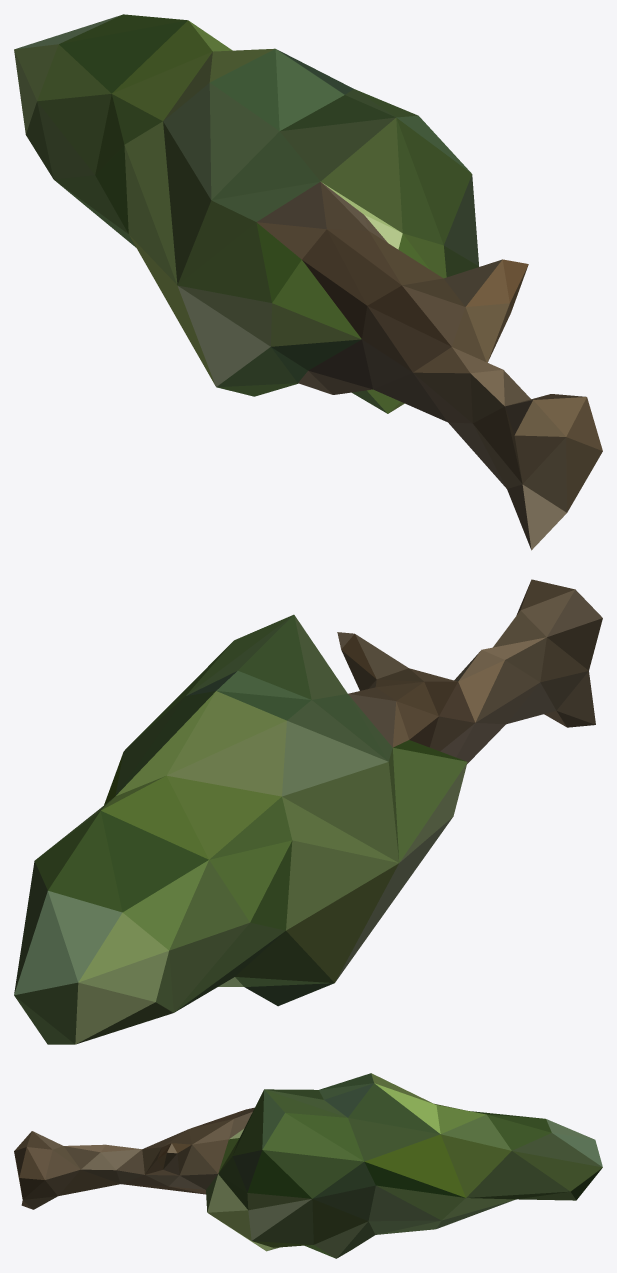
The model's file is Tree_F-DetailB.fbx.
3 renders of one model, top to bottom at view 1: azimuth 30°, elevation 25°; view 2: azimuth 150°, elevation 25°; view 3: azimuth 270°, elevation 25°, orthographic. The views are drawn at different scales.
Visible parts, largest first — view 1: Tree_F-DetailB; view 2: Tree_F-DetailB; view 3: Tree_F-DetailB.
Boxes of the visible parts, x1,y1,x2,y2 form: Tree_F-DetailB: [14, 14, 602, 550]; Tree_F-DetailB: [14, 579, 602, 1044]; Tree_F-DetailB: [14, 1073, 602, 1258].
Bounding box in the file's own units: 360 × 438 × 1311.
